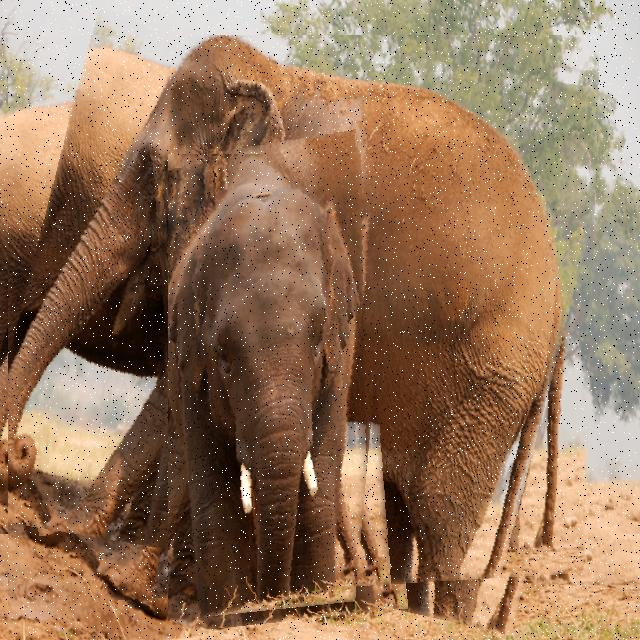elephant: (8, 35, 601, 608), (168, 154, 397, 625), (0, 98, 159, 534)
